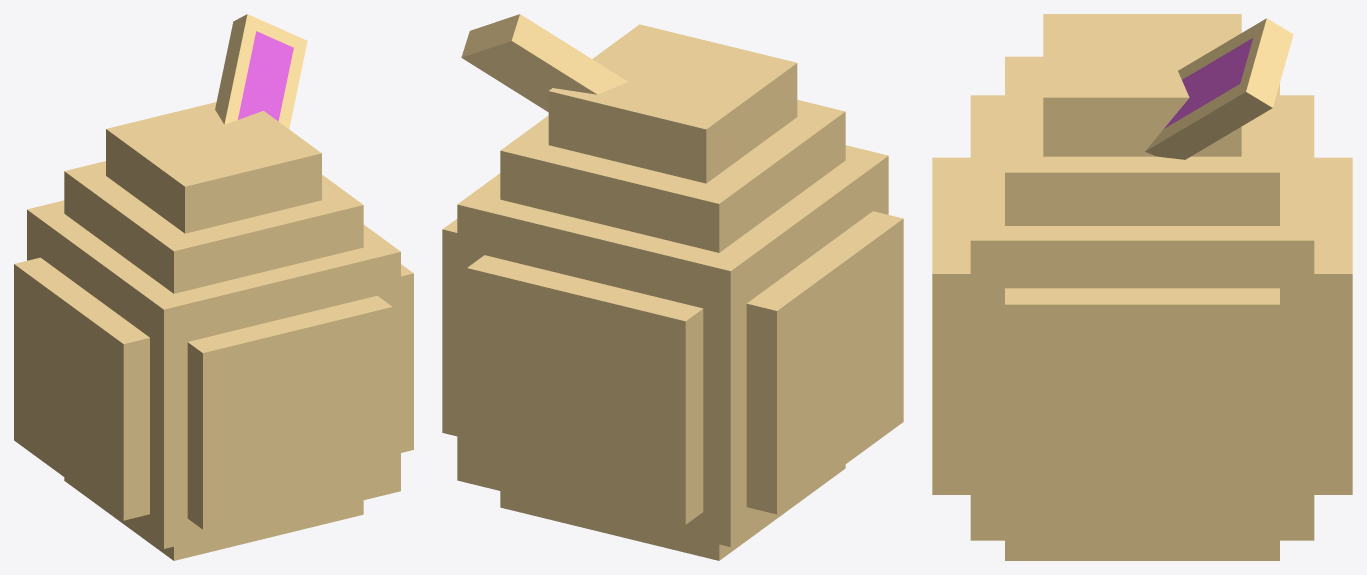
The model's file is 18.Fennec.fbx.
3 renders of one model, left to right at view 1: azimuth 30°, elevation 25°; view 2: azimuth 150°, elevation 25°; view 3: azimuth 270°, elevation 25°, orthographic. The views are drawn at different scales.
Visible parts, largest first — view 1: Fennec; view 2: Fennec; view 3: Fennec.
Boxes of the visible parts, <box> form: Fennec: <box>14,14,413,560</box>; Fennec: <box>442,14,903,560</box>; Fennec: <box>932,14,1352,560</box>.
Bounding box in the file's own units: 2.89 × 4.06 × 2.89.
